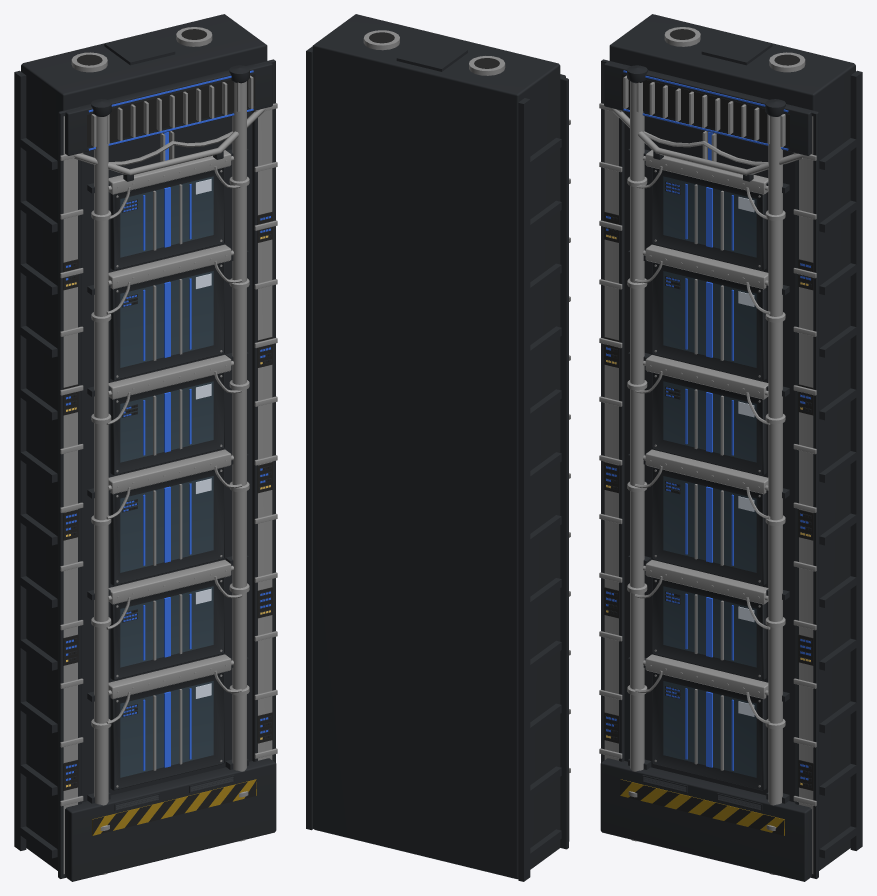
File: Core_Machinery_20m.fbx
The picture shows the model from 3 angles, left to right: view 1: azimuth 30°, elevation 25°; view 2: azimuth 150°, elevation 25°; view 3: azimuth 330°, elevation 25°; orthographic projection.
Visible parts, largest first — view 1: Core_Machinery_20m_LOD0; view 2: Core_Machinery_20m_LOD0; view 3: Core_Machinery_20m_LOD0.
Part boxes in pixels (bbox=[...]): Core_Machinery_20m_LOD0: bbox=[14, 14, 277, 881]; Core_Machinery_20m_LOD0: bbox=[306, 14, 570, 881]; Core_Machinery_20m_LOD0: bbox=[599, 14, 862, 881].
Size of what is drawn, in the model's own units: 5.8 by 20.12 by 2.48.
